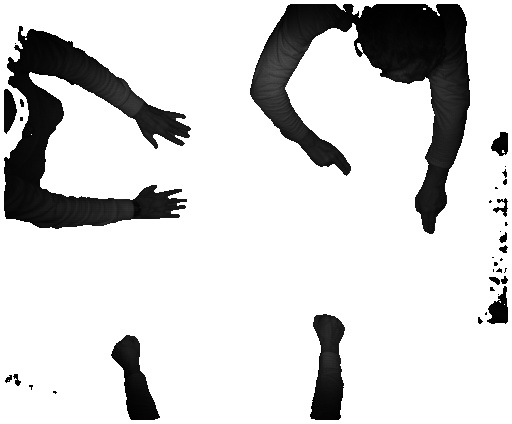fist: (104, 328, 151, 370), (312, 312, 351, 350)
hand: (141, 107, 191, 151), (408, 184, 447, 239), (139, 184, 191, 223), (305, 136, 351, 175)
